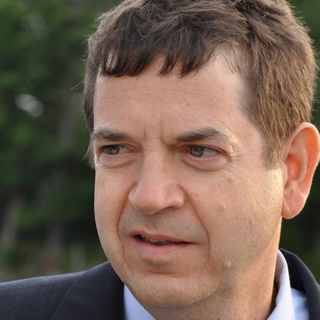eye: (176, 140, 227, 164), (96, 139, 138, 165)
